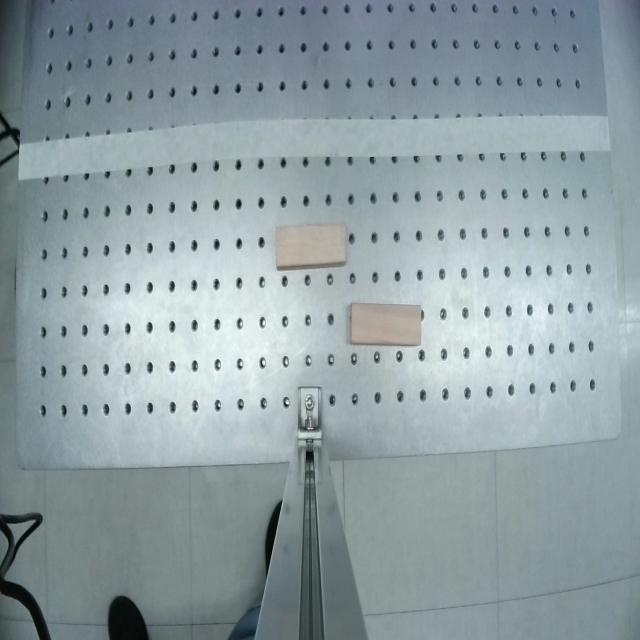wood: (273, 222, 348, 271), (349, 303, 422, 347)
